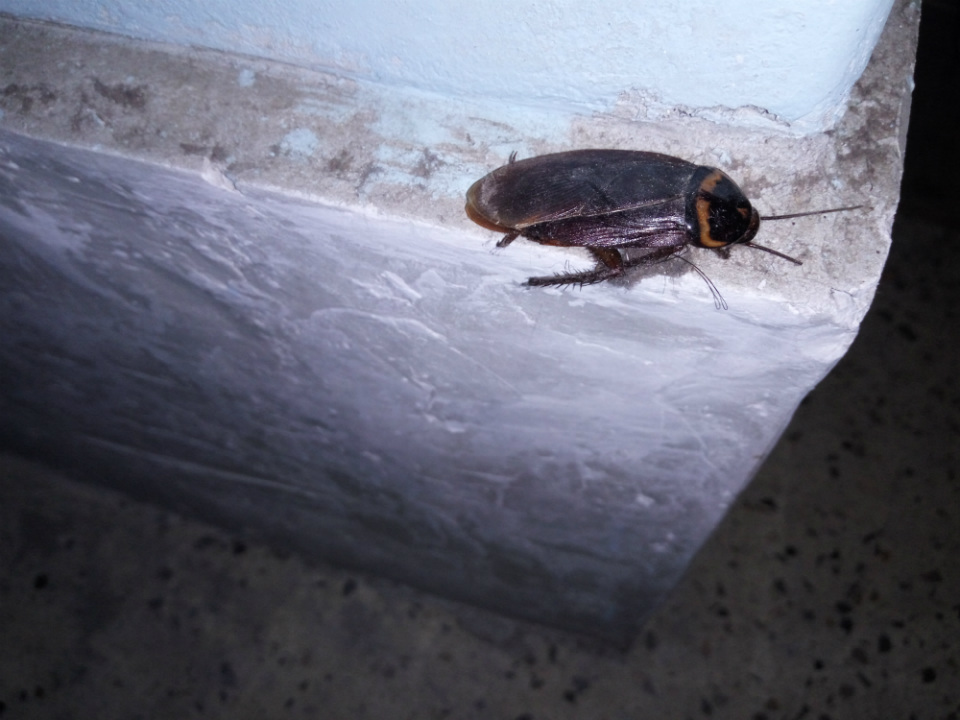cockroach: (408, 95, 899, 329)
